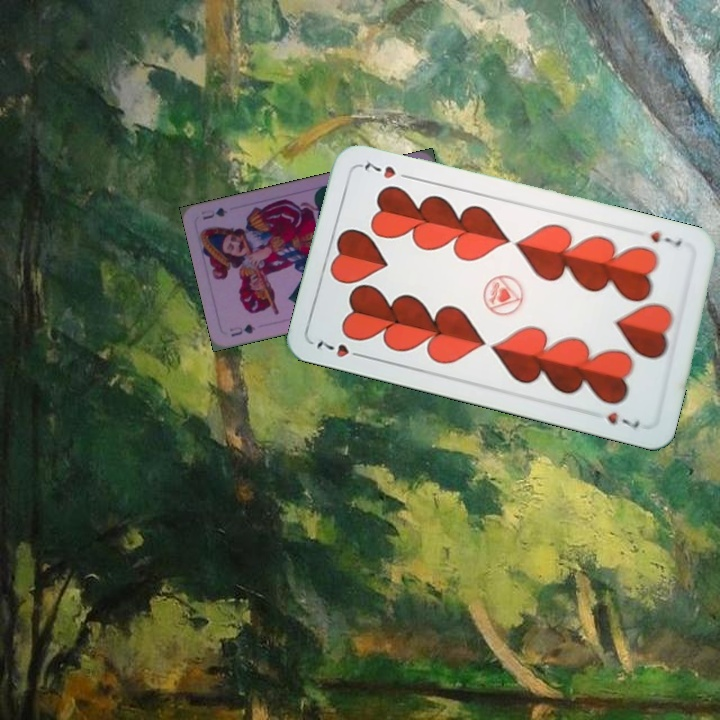GU: (225, 320, 258, 339)
H7: (312, 337, 369, 361), (646, 227, 684, 250)
